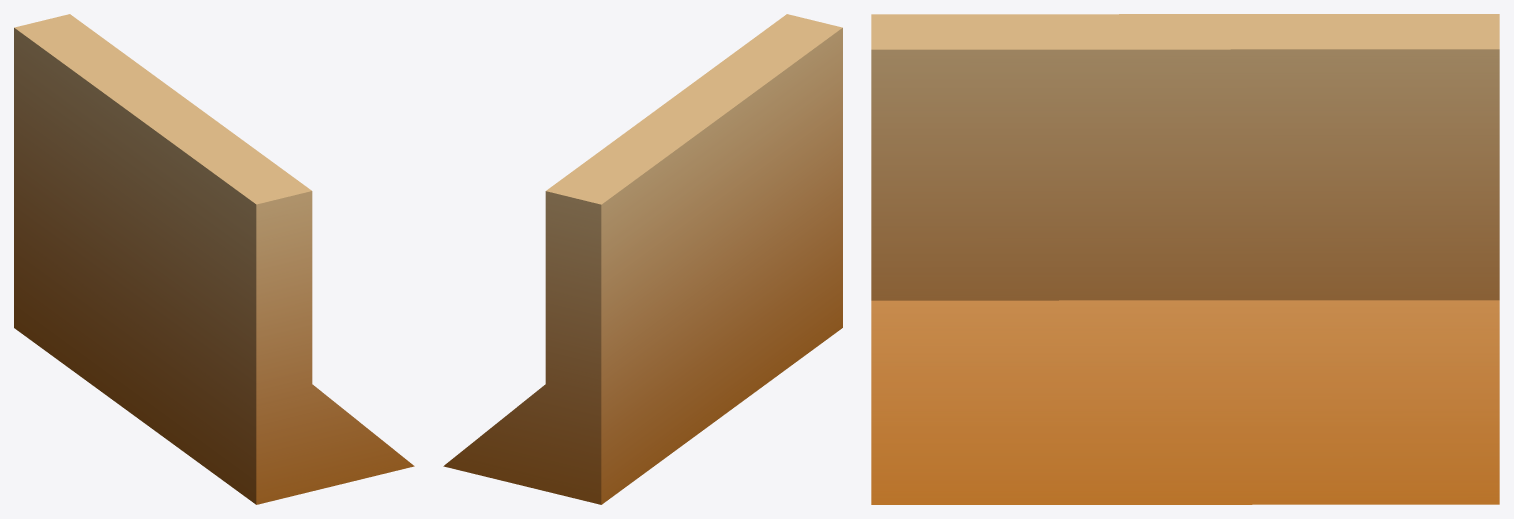
The model's file is base_to_corridor_wall.fbx.
The picture shows the model from 3 angles, left to right: view 1: azimuth 30°, elevation 25°; view 2: azimuth 150°, elevation 25°; view 3: azimuth 270°, elevation 25°; orthographic projection. The views are drawn at different scales.
Parts seen in each view (by area): view 1: base.to.corridor.wall; view 2: base.to.corridor.wall; view 3: base.to.corridor.wall.
Boxes of the visible parts, x1,y1,x2,y2 form: base.to.corridor.wall: [14, 14, 414, 504]; base.to.corridor.wall: [443, 14, 842, 504]; base.to.corridor.wall: [871, 14, 1499, 504].
Bounding box in the file's own units: 15.05 × 27.2 × 39.7.
